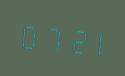one: (84, 22, 105, 59)
seven: (40, 18, 61, 55)
two: (62, 20, 83, 57)
zero: (18, 16, 39, 53)
